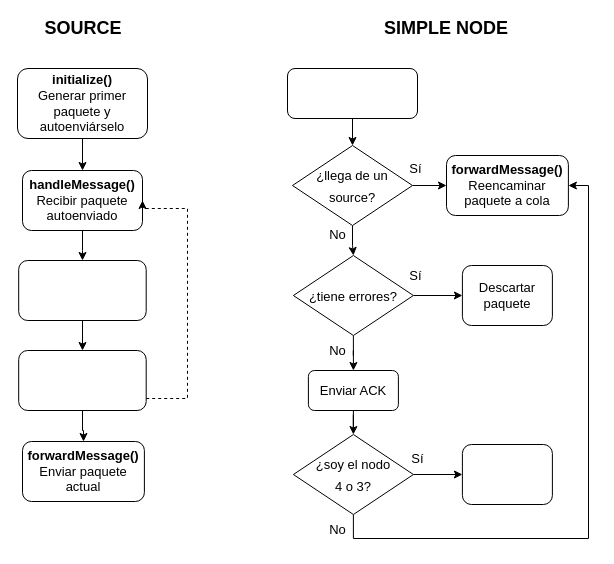
Some shapes in this 614 by 564 pixel diagram are drawn without their labels. The box of each missing label's shape, as (x1, y1, x2, y2) in pixels:
handleMessage() Recibe paquete: (286, 68, 418, 118)
Obtener tiempo de generación del siguiente paquete: (18, 260, 146, 320)
Paquete ha llegado a destino: (461, 444, 552, 504)
Planificar evento de generación del siguiente paquete: (18, 350, 146, 410)
